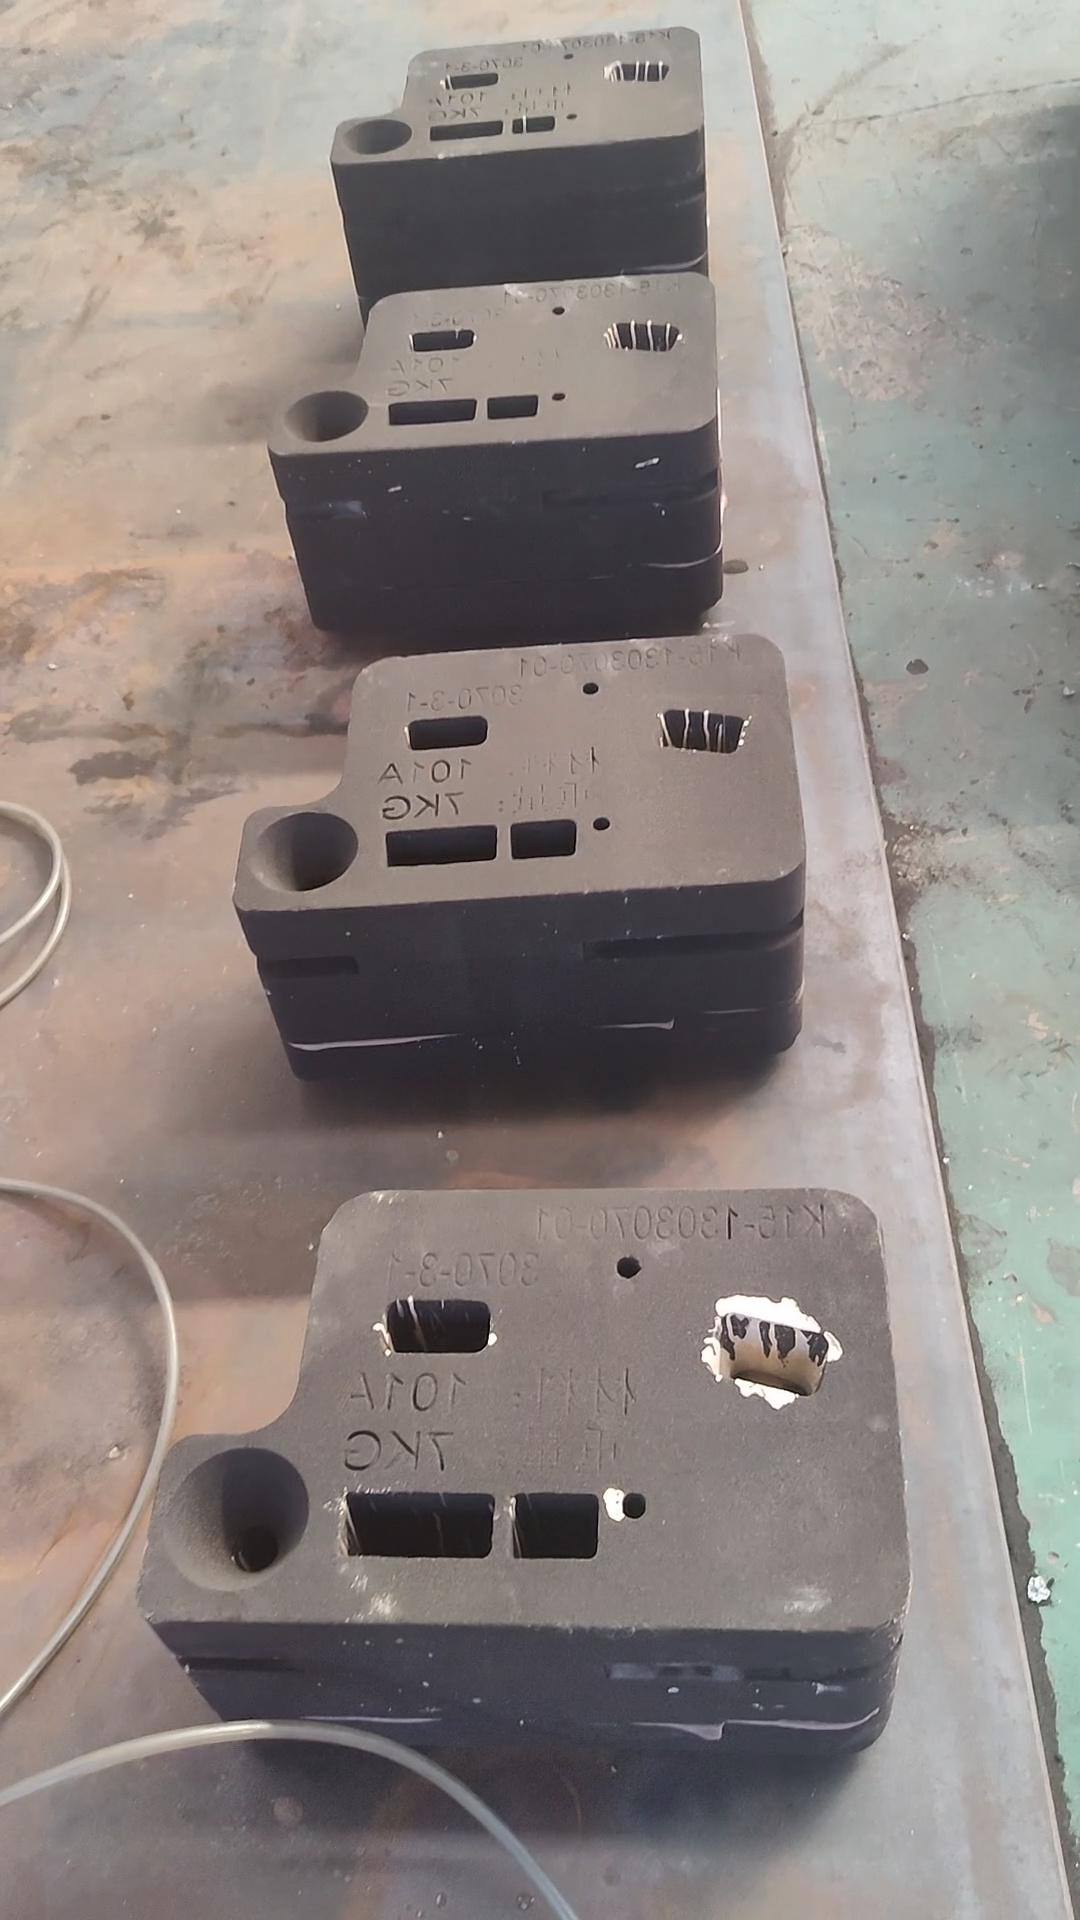pouring hole: (164, 1447, 310, 1589), (248, 812, 357, 893), (284, 390, 369, 443), (342, 119, 413, 156)
